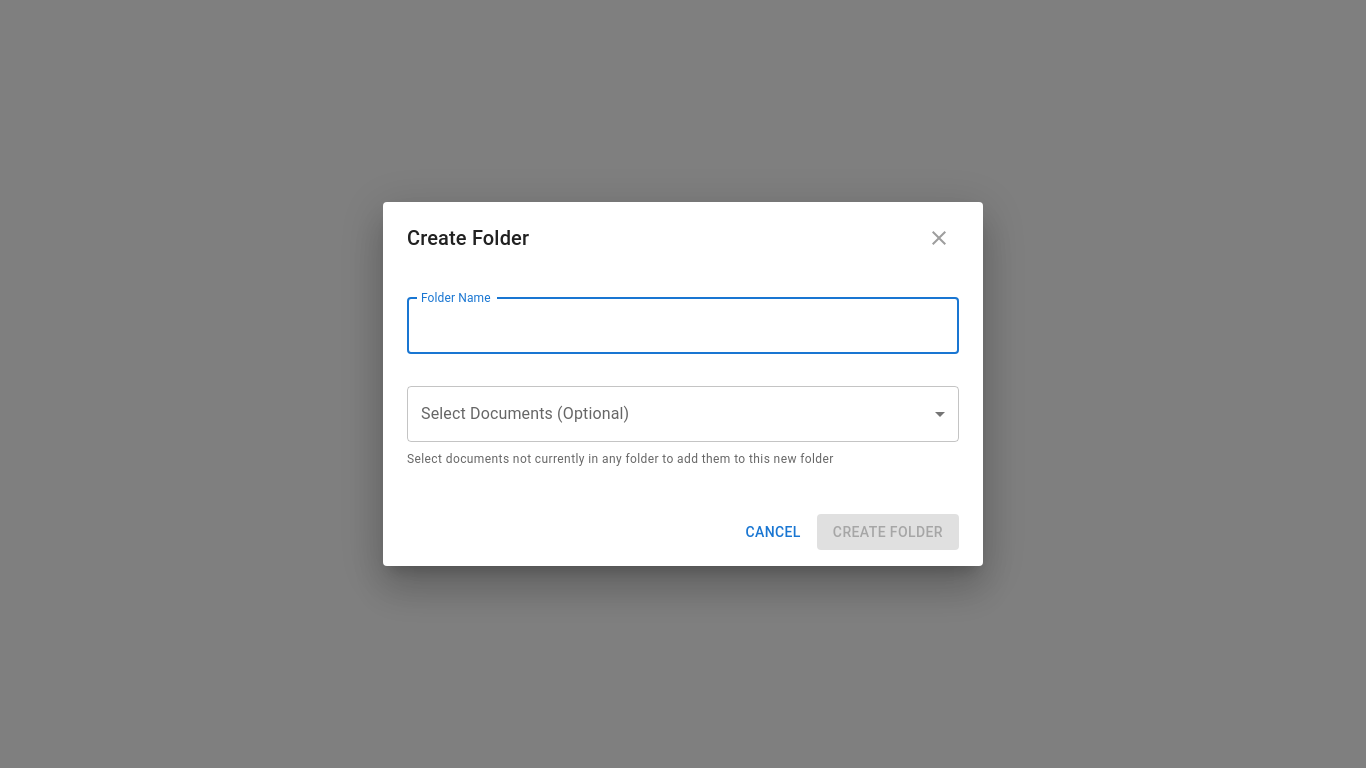
Test case: CreateFolderModal › should display message when no documents available
Press the mouse on the dropdown at (683, 414), box [407, 386, 959, 442]
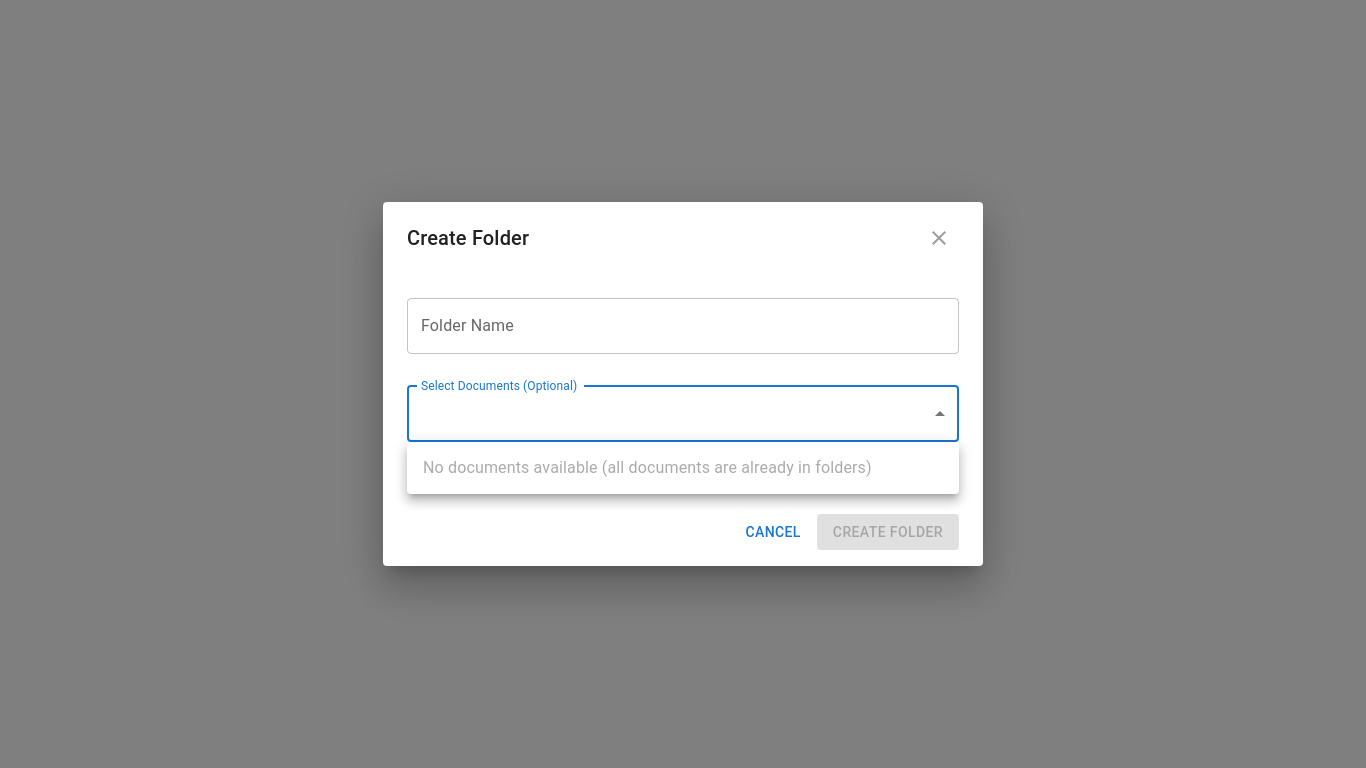
Result: the option "No documents available" is shown at [423, 458, 872, 477]
